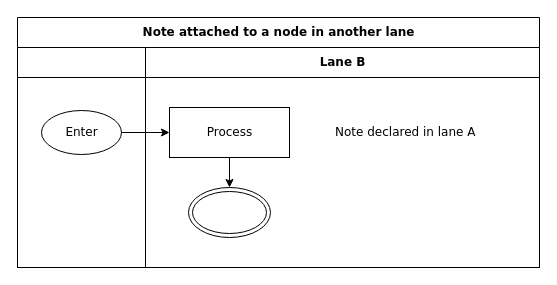
Some shapes in this 557 by 285 pixel diagram are drawn without their labels. Here are the shapes that lost their labels. From the top down, the box of each, then its label:
(16, 46, 146, 268): Lane A
(188, 186, 270, 238): Done
